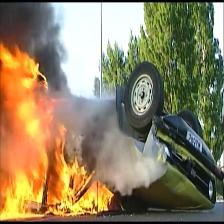fire: (0, 36, 128, 221)
smoke: (9, 0, 88, 106), (88, 103, 168, 203)
